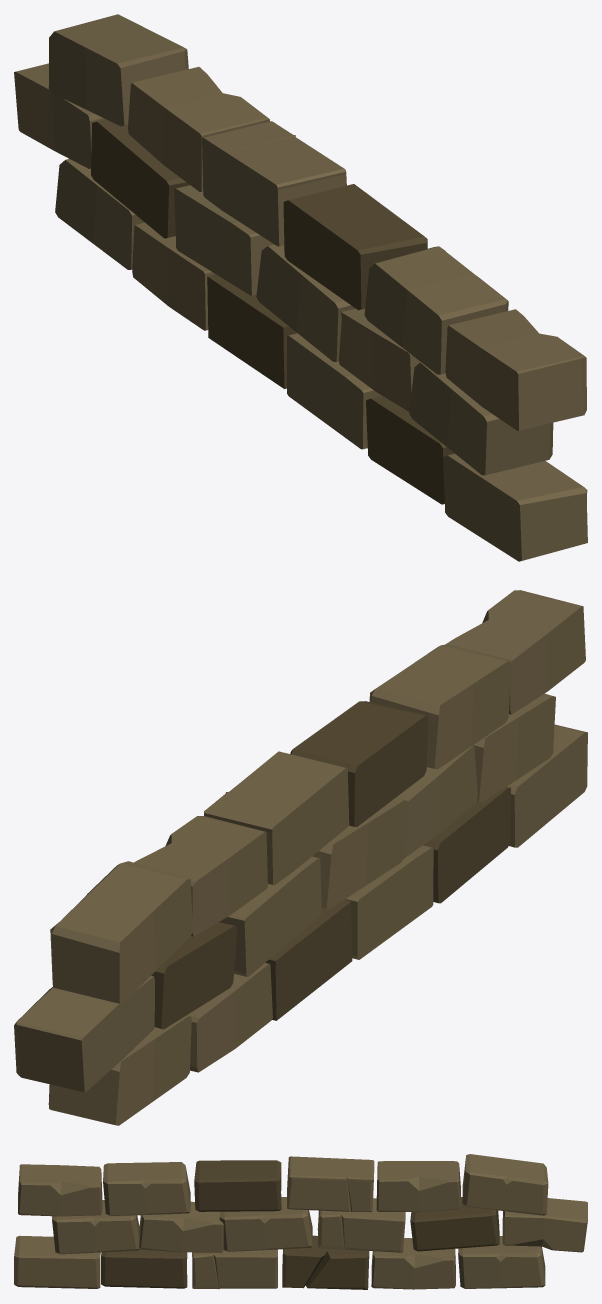
The model's file is wall.fbx.
3 renders of one model, top to bottom at view 1: azimuth 30°, elevation 25°; view 2: azimuth 150°, elevation 25°; view 3: azimuth 270°, elevation 25°, orthographic. The views are drawn at different scales.
Parts seen in each view (by area): view 1: Cube.030; view 2: Cube.030; view 3: Cube.030.
Boxes of the visible parts, box(x1,y1,x2,y2) form: Cube.030: box(14, 14, 587, 561); Cube.030: box(14, 590, 587, 1125); Cube.030: box(14, 1154, 587, 1289).
Size of the model in its own units: 92.89 by 235 by 1028.
